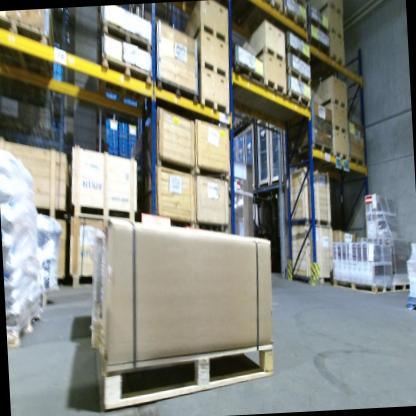pallet: (92, 304, 299, 409), (93, 51, 156, 114), (0, 13, 53, 84), (228, 56, 264, 120), (5, 301, 45, 353), (100, 15, 150, 53), (331, 271, 393, 297), (156, 75, 199, 108), (288, 138, 334, 164), (82, 304, 99, 349), (286, 87, 313, 113), (286, 63, 312, 88), (285, 42, 310, 68), (284, 7, 309, 33), (304, 34, 328, 60), (387, 276, 414, 294), (309, 12, 327, 37), (400, 291, 416, 319), (350, 151, 366, 173), (286, 0, 307, 11)
small_load_carrier: (107, 135, 117, 150), (106, 117, 118, 129), (106, 126, 118, 137), (127, 122, 137, 134), (126, 147, 136, 158), (109, 146, 119, 156), (118, 132, 128, 142), (117, 143, 128, 152), (128, 138, 137, 148), (117, 121, 128, 129), (117, 139, 129, 146), (128, 131, 137, 139), (117, 149, 127, 156), (117, 126, 128, 132)
